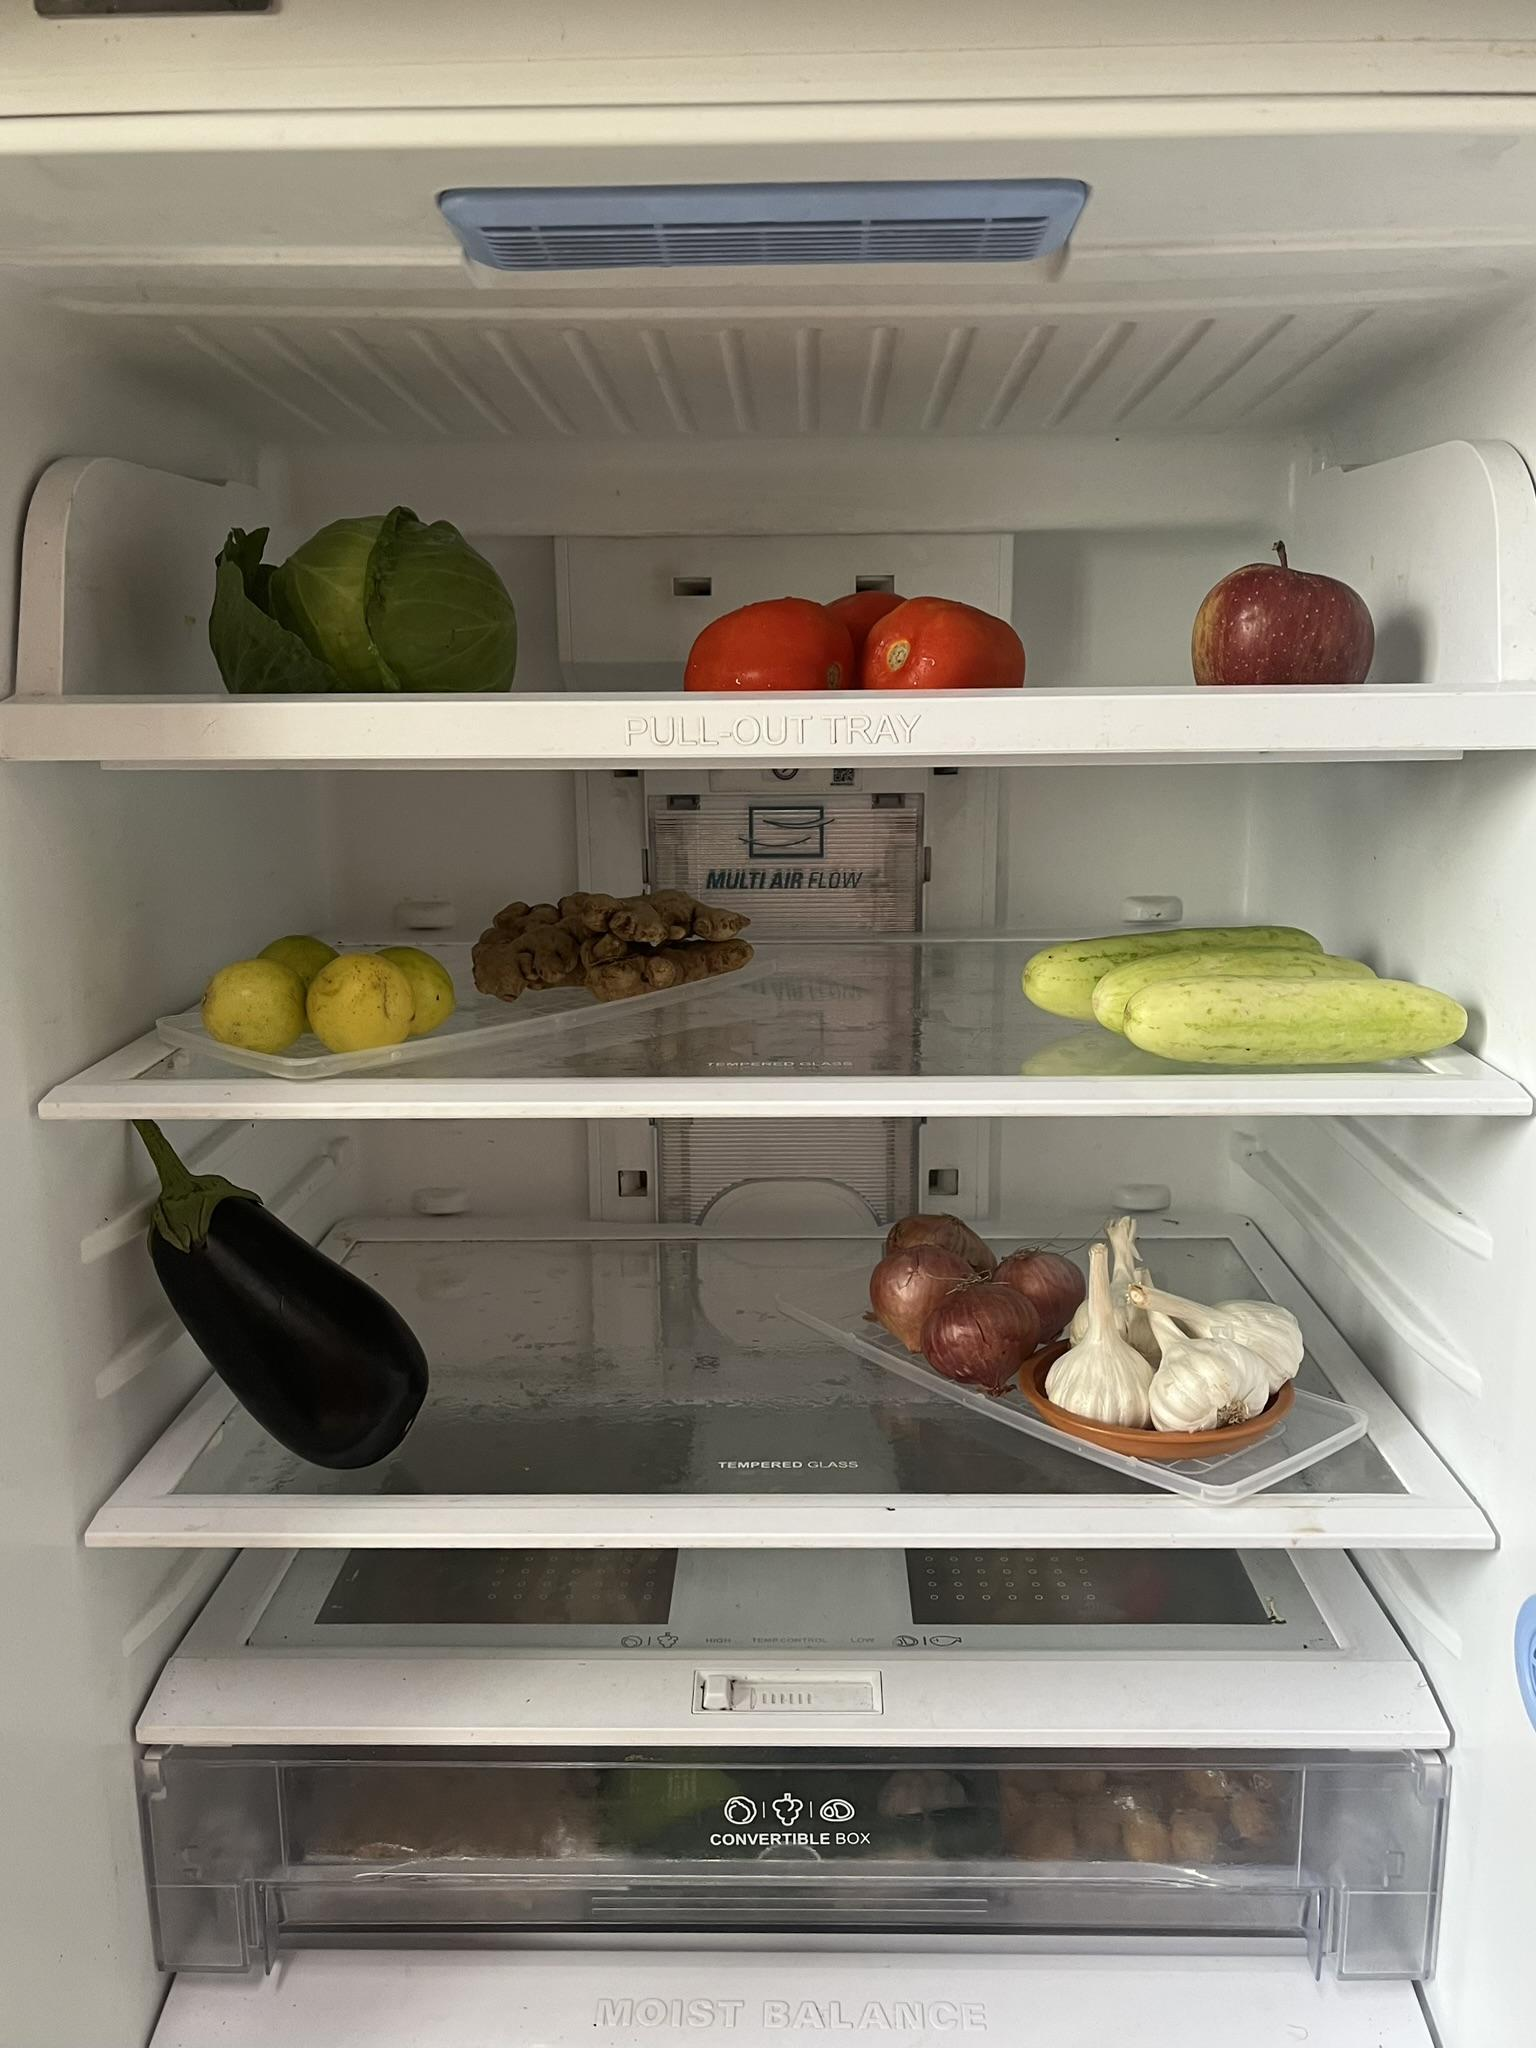apple: (1202, 547, 1381, 679)
bringal: (121, 1111, 431, 1476), (881, 1201, 1060, 1400)
cabbage: (211, 502, 518, 689)
cucumber: (1018, 934, 1470, 1066)
garlic: (1071, 1192, 1304, 1440)
ginger: (476, 882, 753, 997)
lemon: (202, 906, 471, 1050)
tomato: (695, 584, 1018, 676)
